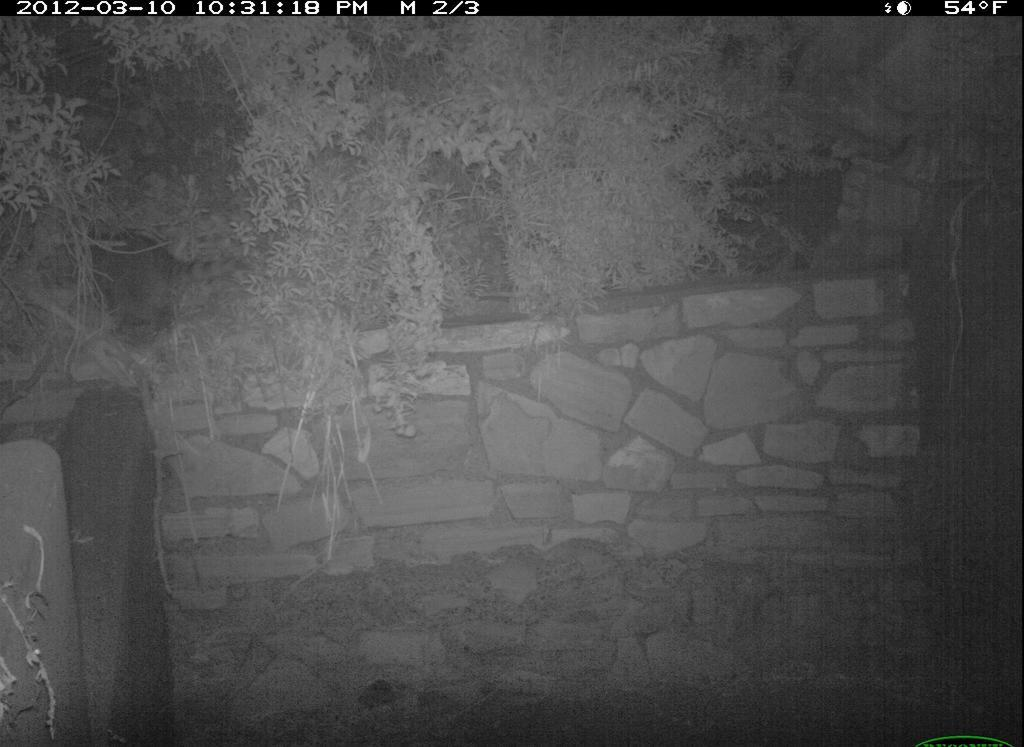raccoon: (79, 223, 264, 345)
